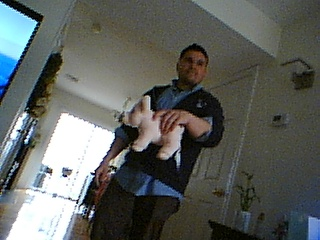piggy: (124, 94, 185, 161)
